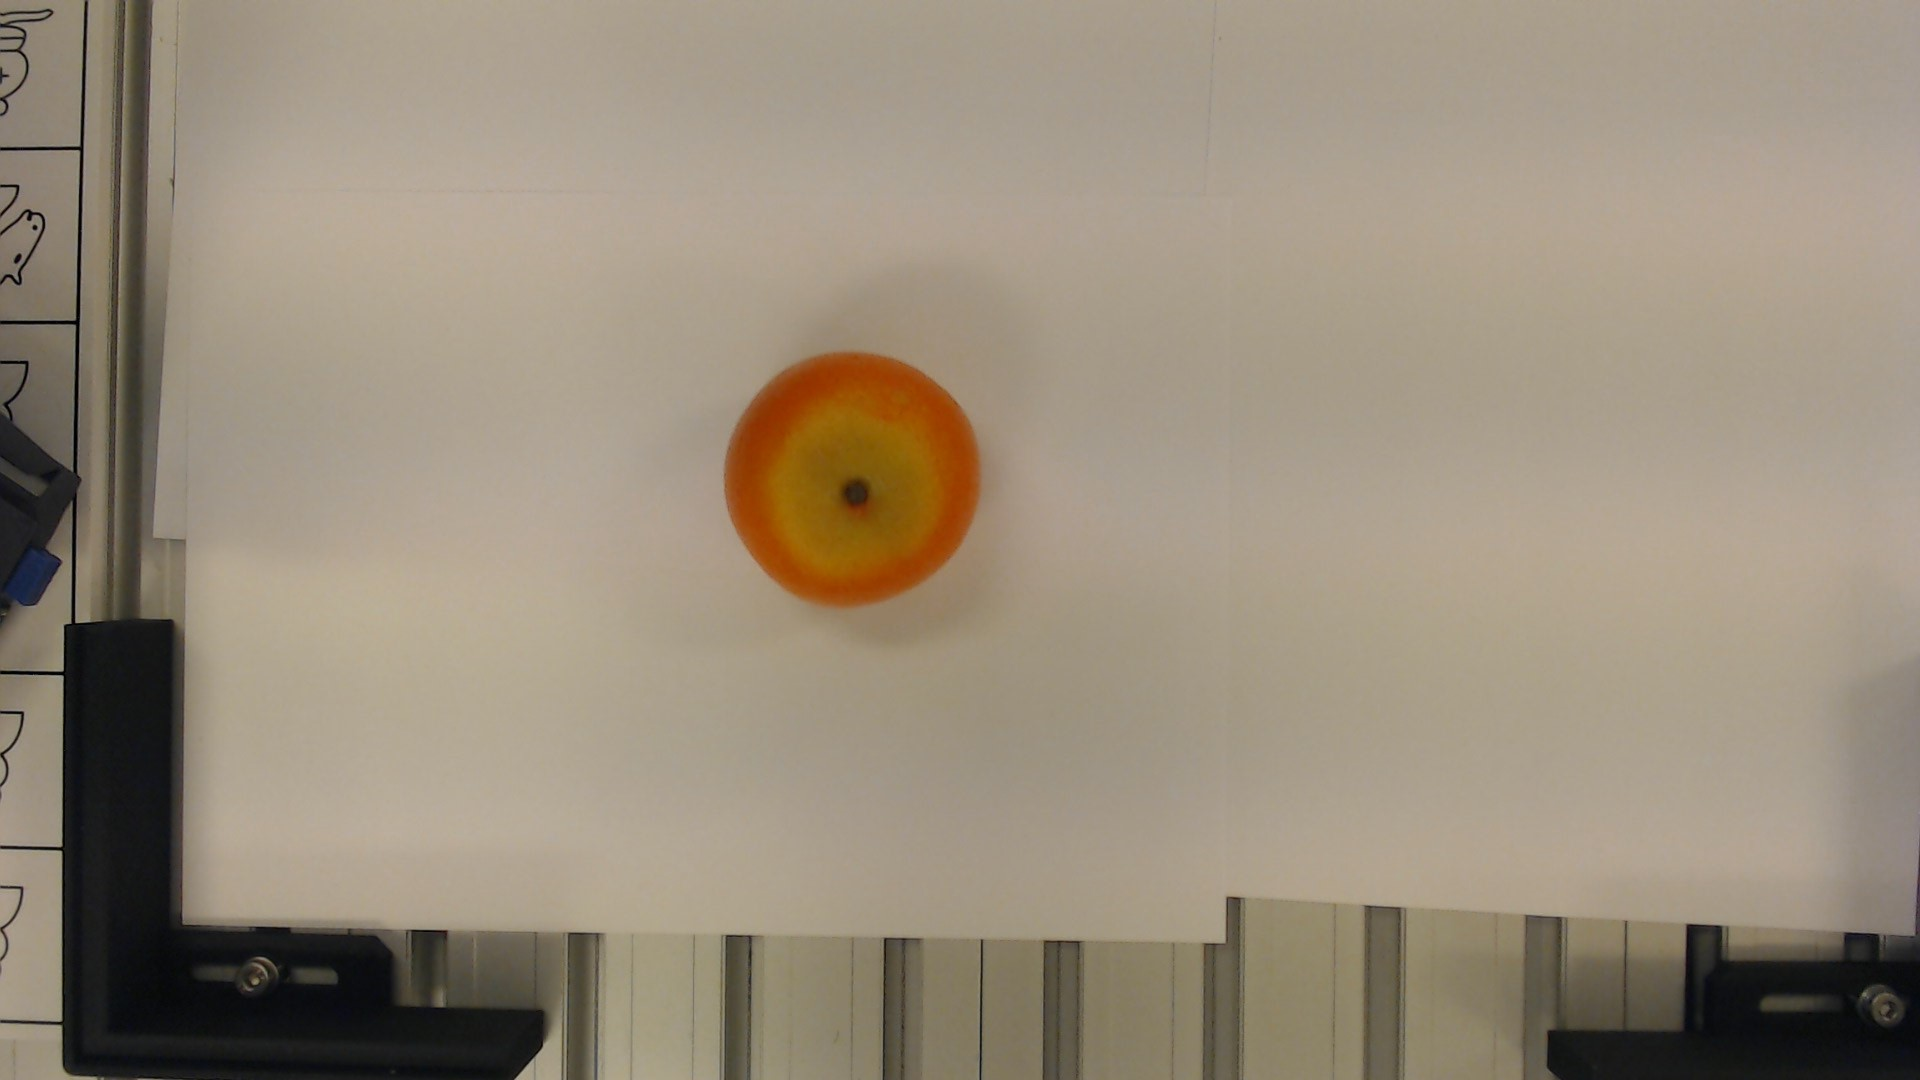Mandarin: (715, 348, 981, 607)
